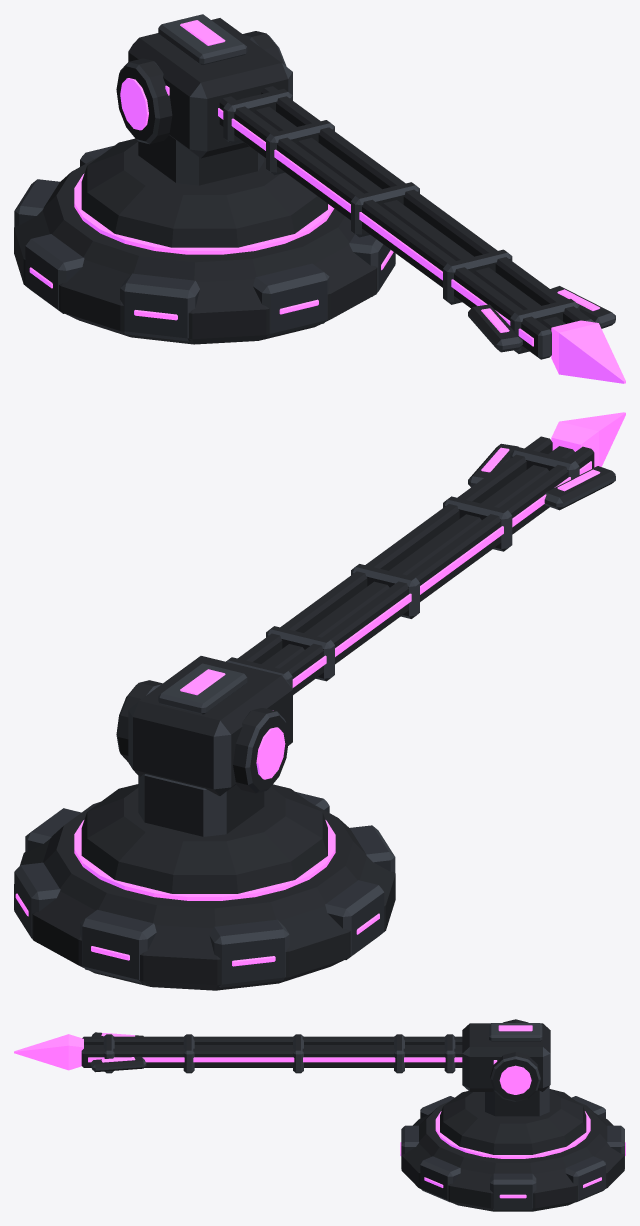
File: harpoon.glb
3 views of the same model, one above another, from view 1: azimuth 30°, elevation 25°; view 2: azimuth 150°, elevation 25°; view 3: azimuth 270°, elevation 25° (orthographic). The views are drawn at different scales.
Visible parts, largest first — view 1: HARPOON; view 2: HARPOON; view 3: HARPOON.
Part boxes in pixels (box(x1,y1,x2,y2)): HARPOON: box(14, 14, 625, 383); HARPOON: box(14, 412, 625, 990); HARPOON: box(14, 1019, 625, 1211).
Bounding box in the file's own units: 2.68 × 1.87 × 7.27.
